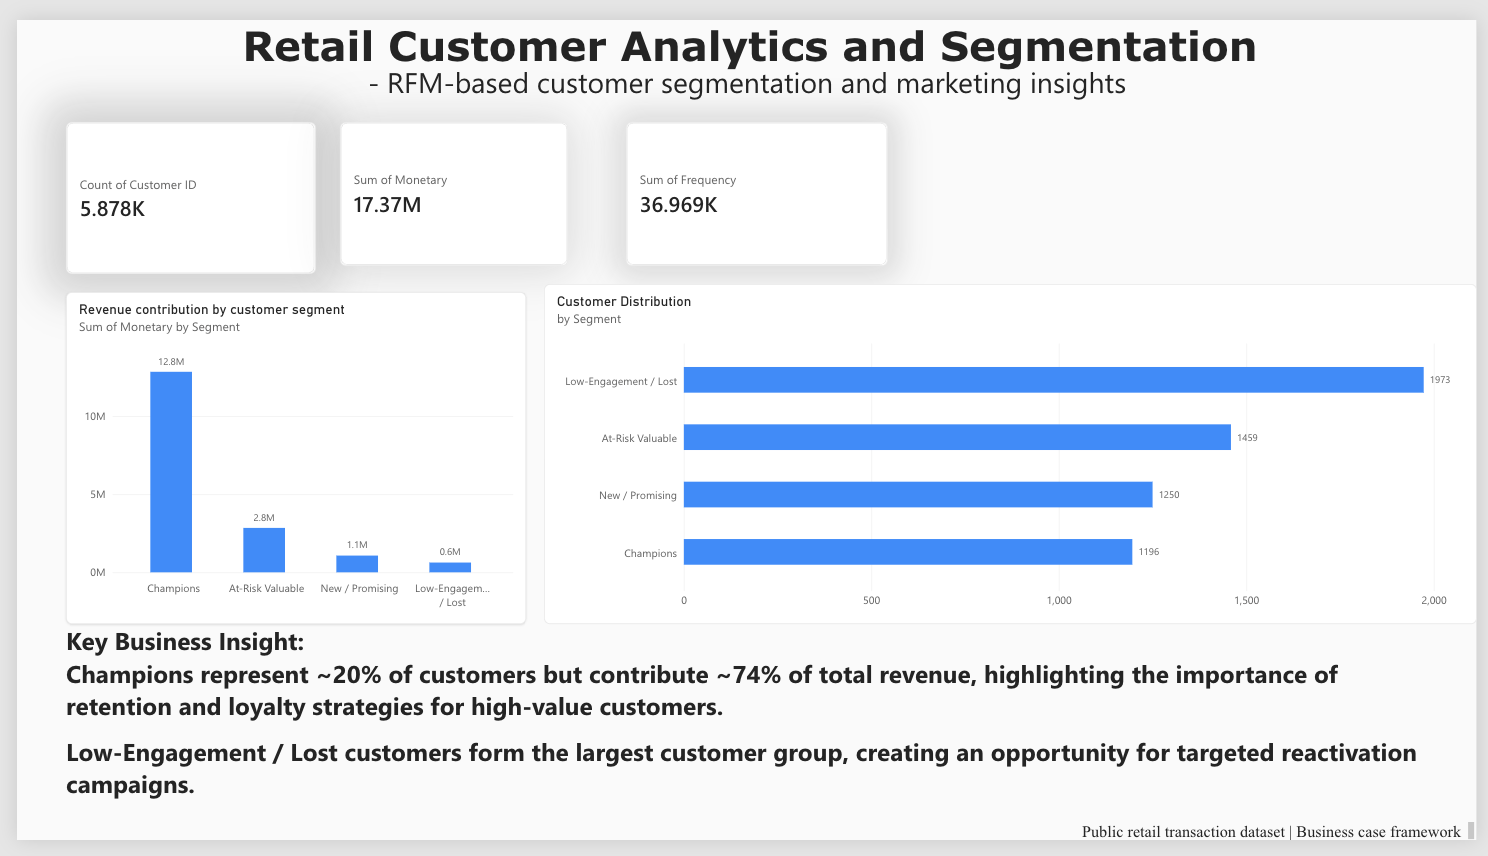

What the dashboard file says about the page in this screenshot:
{"tool":"powerbi","page":{"name":"Executive Overview","canvas":[1920,1080],"ordinal":0},"visuals":[{"type":"cardVisual","fields":{"Data":["CountNonNull(final_customer_segments.Customer ID)"]},"box":[-1.3,10.9,280,280],"z":0},{"type":"cardVisual","fields":{"Data":["Sum(final_customer_segments.Monetary)"]},"box":[276.8,-0.6,300,300],"z":1000},{"type":"cardVisual","fields":{"Data":["Sum(final_customer_segments.Frequency)"]},"box":[578.2,10.9,300,300],"z":2000},{"type":"barChart","fields":{"Category":["final_customer_segments.Segment"],"Y":["CountNonNull(final_customer_segments.Customer ID)"]},"box":[0,316.8,548.6,224.1],"z":3000},{"type":"clusteredColumnChart","fields":{"Category":["final_customer_segments.Segment"],"Y":["Sum(final_customer_segments.Monetary)"]},"box":[0,540.8,579.5,367],"z":4000},{"type":"clusteredBarChart","fields":{"Category":["final_customer_segments.Segment"],"Y":["CountNonNull(final_customer_segments.Customer ID)"]},"box":[614.2,343.8,788.1,394],"z":5000}]}

Visuals, with their boxes in screenshot pixels (x1, y1, x2, y2), scaled from the page's 1920x1080 canvas onto the 1488x856 screenshot:
cardVisual - CountNonNull(final_customer_segments.Customer ID): <bbox>0, 9, 216, 231</bbox>
cardVisual - Sum(final_customer_segments.Monetary): <bbox>215, 0, 447, 237</bbox>
cardVisual - Sum(final_customer_segments.Frequency): <bbox>448, 9, 681, 246</bbox>
barChart - final_customer_segments.Segment x CountNonNull(final_customer_segments.Customer ID): <bbox>0, 251, 425, 429</bbox>
clusteredColumnChart - final_customer_segments.Segment x Sum(final_customer_segments.Monetary): <bbox>0, 429, 449, 720</bbox>
clusteredBarChart - final_customer_segments.Segment x CountNonNull(final_customer_segments.Customer ID): <bbox>476, 272, 1087, 585</bbox>
